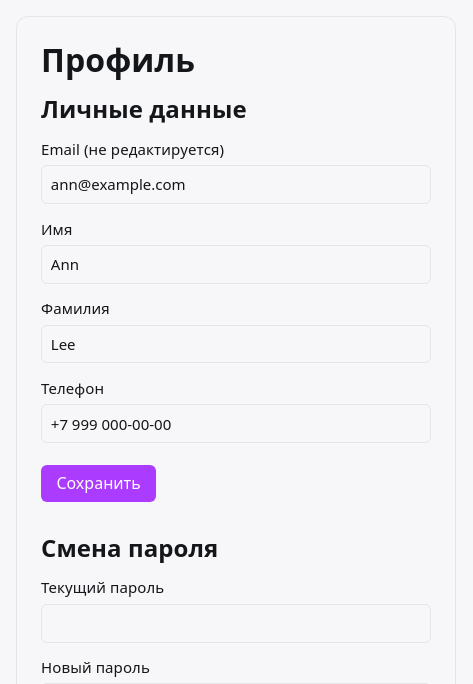
ProfilePage › ошибка сохранения профиля показывается
Click the button "Сохранить" at {"x": 99, "y": 483}, box [41, 465, 156, 502]
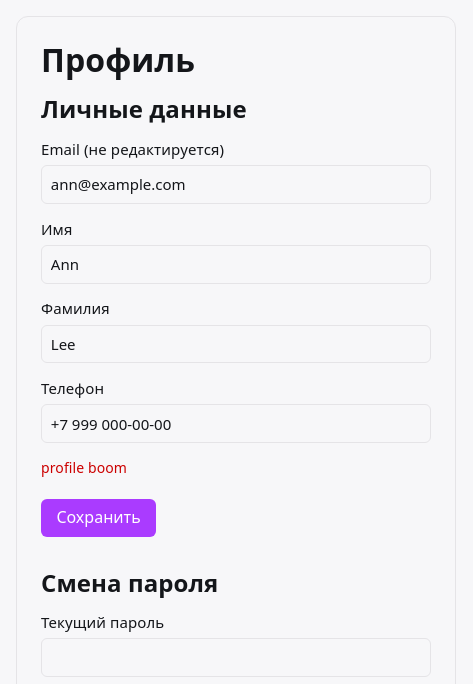
Expected: the text "profile boom" is shown, [41, 458, 127, 477]
